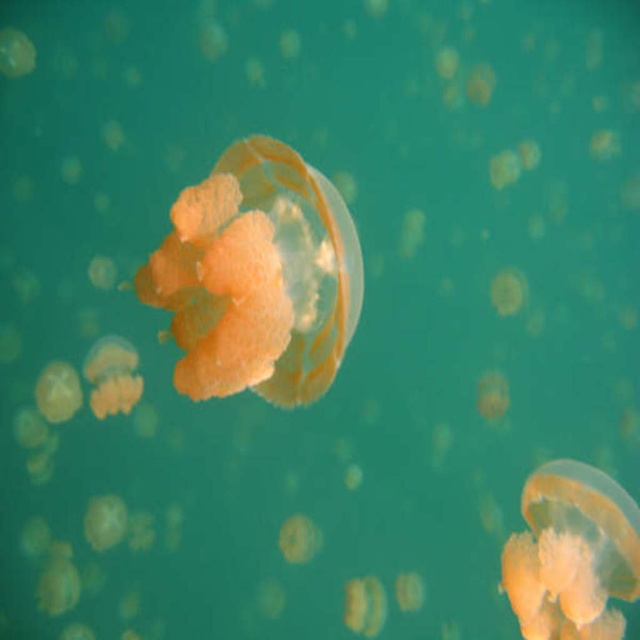Jellyfish: (133, 132, 365, 411), (506, 458, 639, 639)
